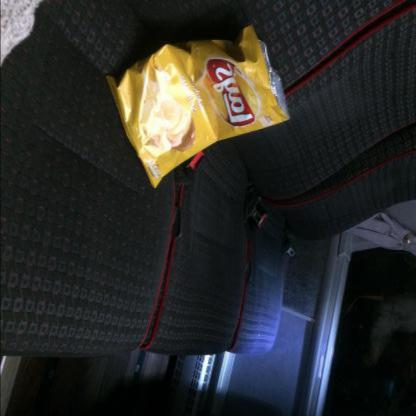Plastic bag - wrapper: (106, 24, 290, 188)
